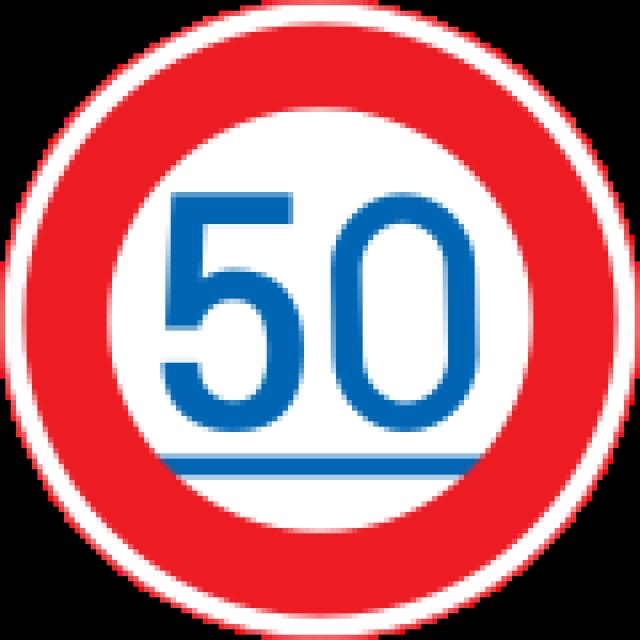Speed Limit -50-: (148, 181, 494, 446)
